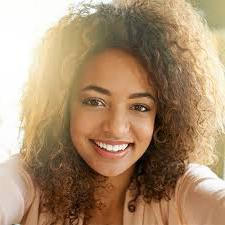face: (70, 49, 157, 178)
